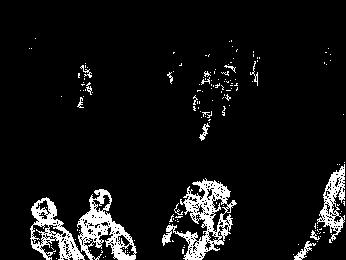person: (166, 174, 235, 259), (300, 159, 345, 260), (77, 185, 134, 260), (28, 193, 85, 260), (192, 72, 217, 141), (73, 62, 95, 107)
